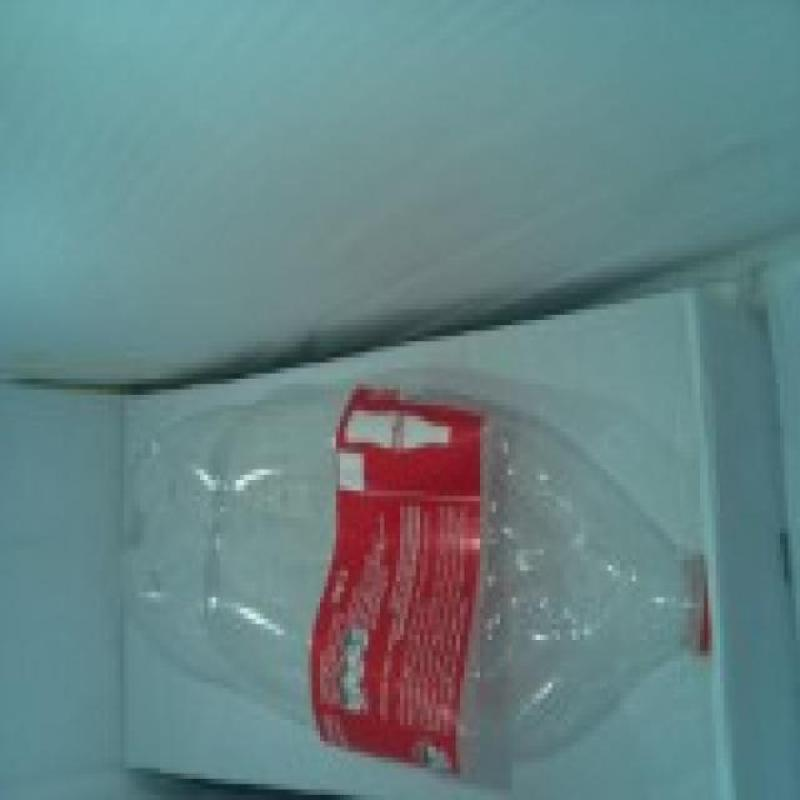botella: (128, 387, 712, 775)
